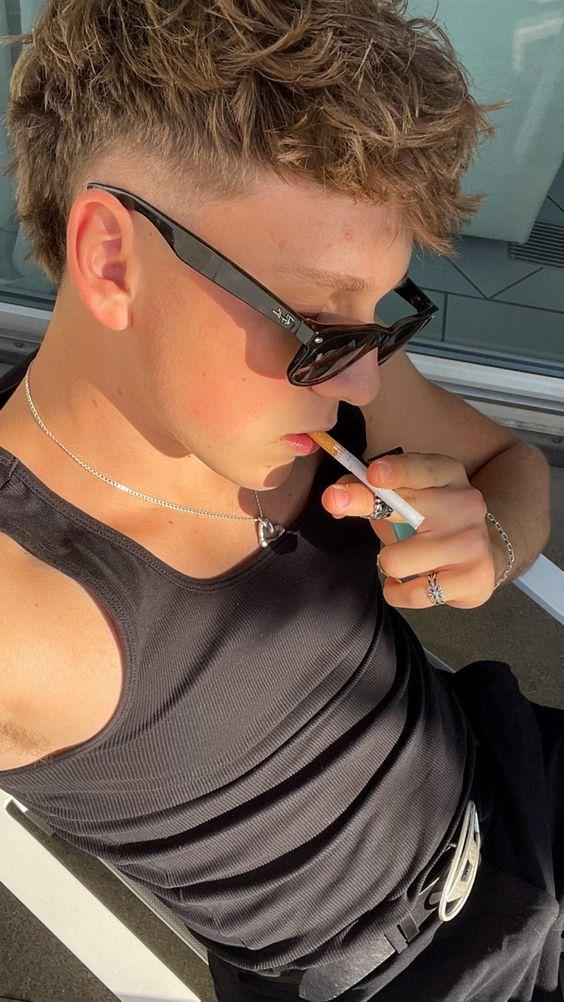cigarette: (306, 431, 425, 531)
